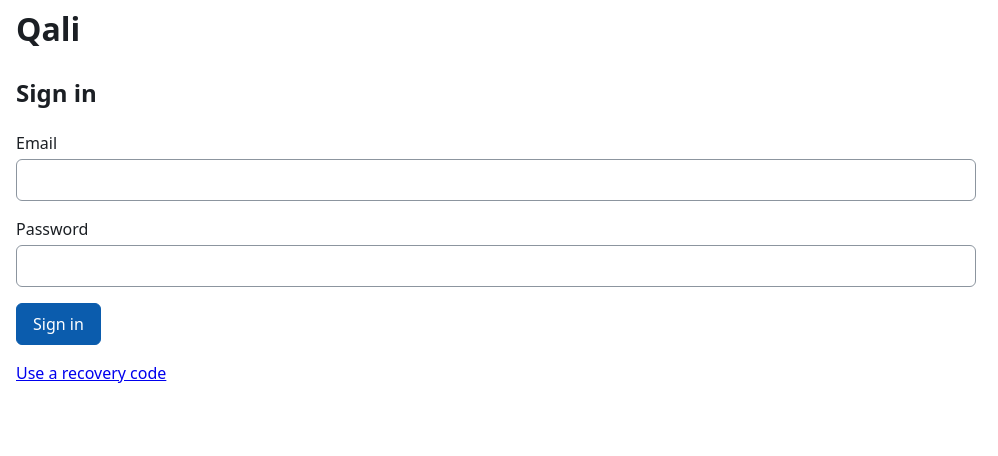
Test: App › asks anonymous visitors to sign in and explains failures
Check: the heading "Sign in" is shown, box [16,76,97,109]
Click the button "Sign in" at [58, 324], box [16,303,101,345]
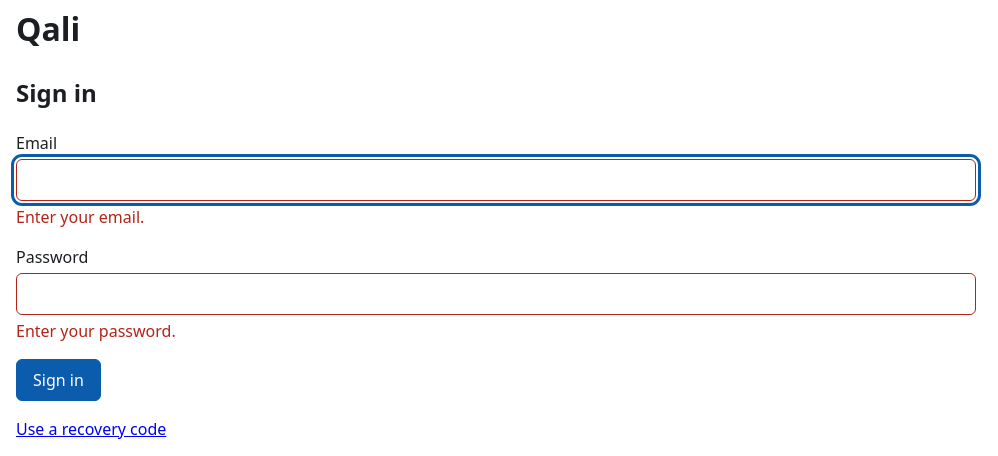
Check: the text "Enter your email." is shown, box [16,206,144,228]
Type "owner@example.org" into the field labelled "Email" at [496, 180], box [16,159,976,201]
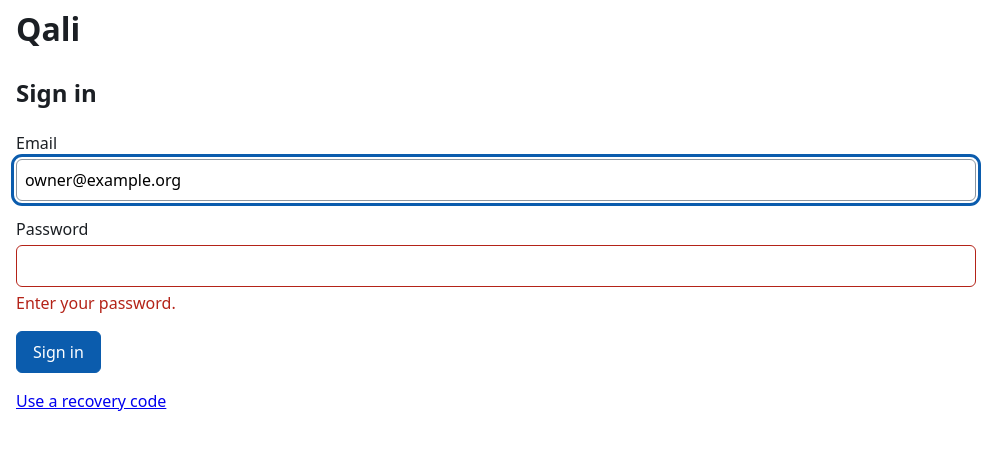
Type "wrong password" into the password field labelled "Password" at [496, 266], box [16,245,976,287]
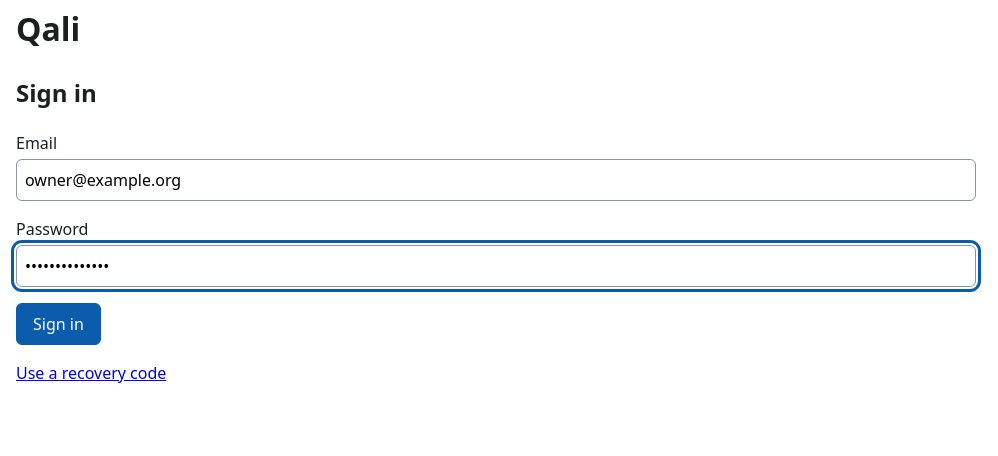
Click the button "Sign in" at [58, 324], box [16,303,101,345]
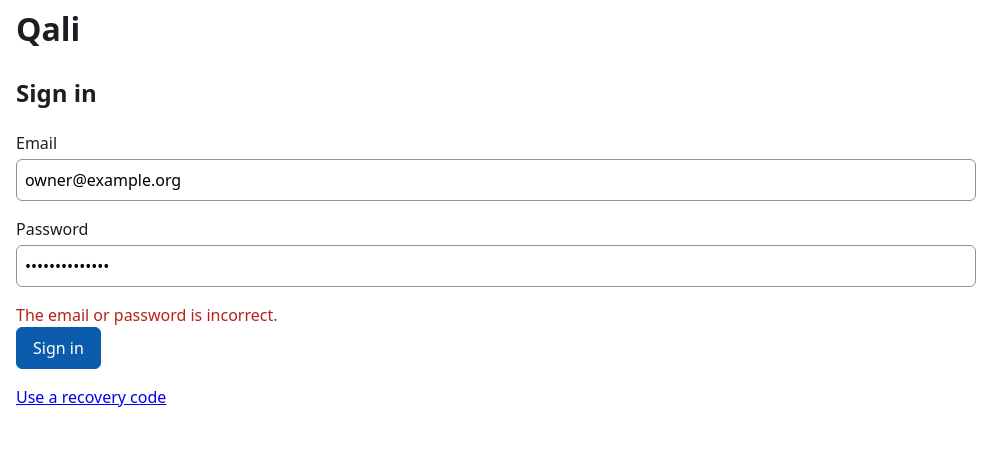
Check: the message reads "The email or password is incorrect.", box [16,304,278,326]
